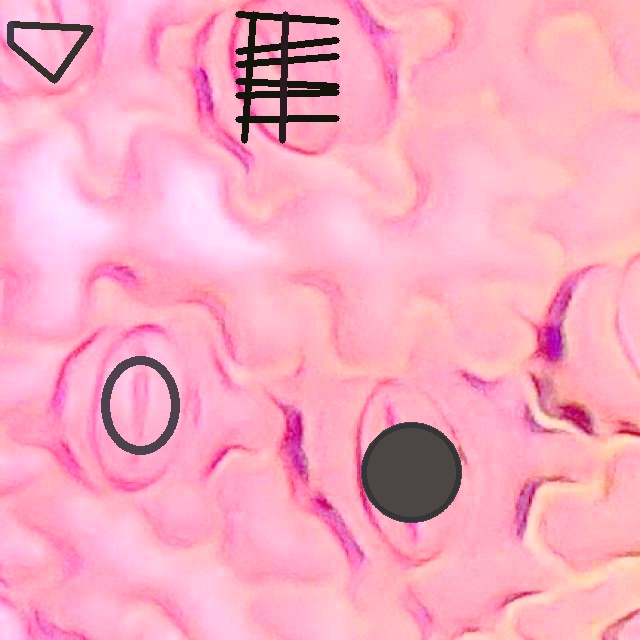open: (235, 11, 339, 142), (360, 421, 461, 522), (102, 356, 179, 454), (8, 21, 92, 83)
